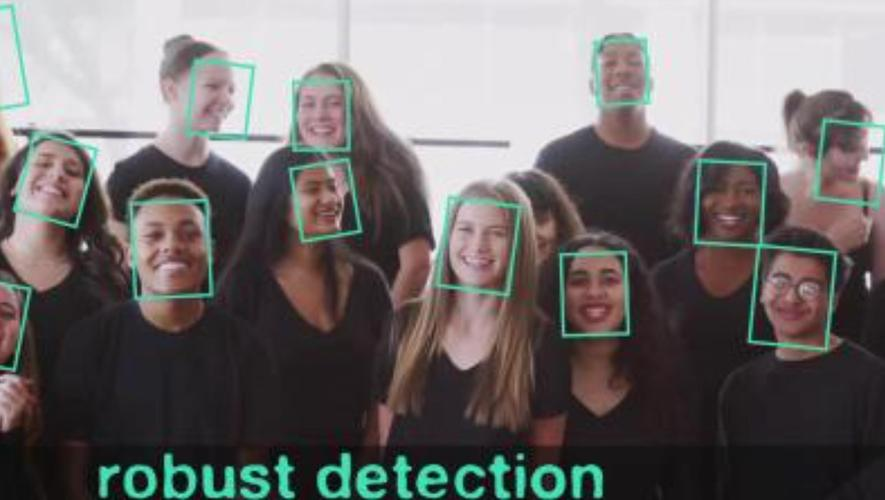no_mask: (565, 250, 623, 334), (696, 166, 759, 243), (451, 196, 510, 278), (299, 75, 352, 152)
